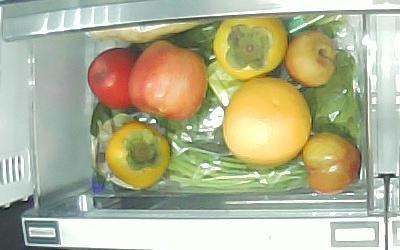apple: (128, 41, 208, 122), (86, 47, 140, 109)
grapefruit: (223, 77, 312, 168)
persimmon: (213, 17, 288, 81), (106, 122, 172, 189)
prune: (303, 132, 363, 195), (284, 31, 335, 87)
